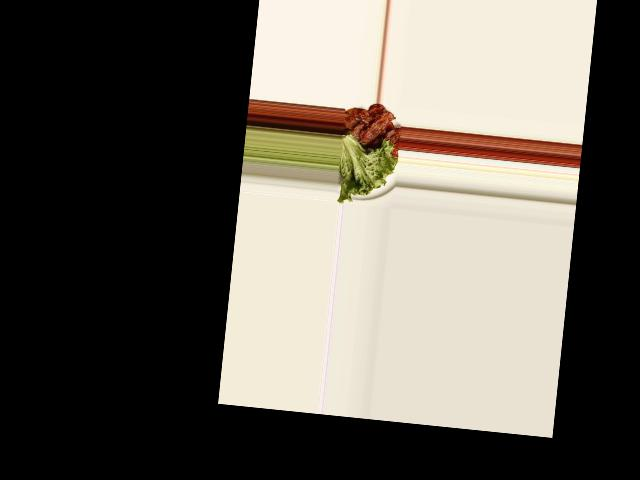lettuce: (335, 134, 398, 205)
